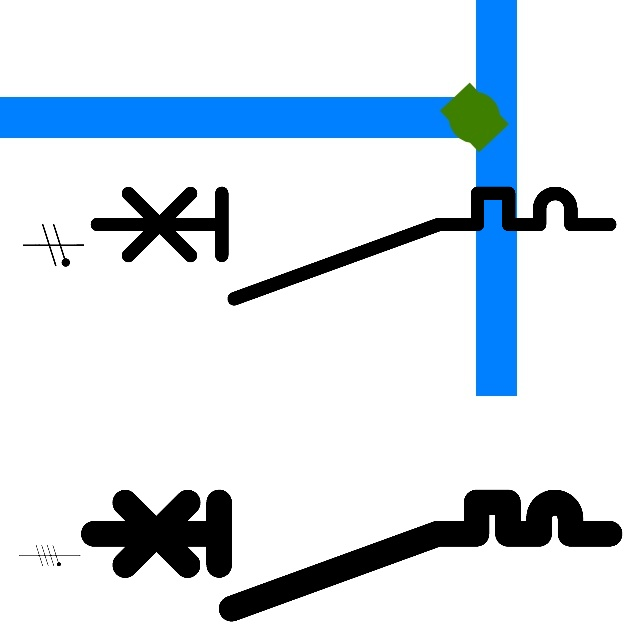interruptor_termomagnetico: (80, 489, 622, 621), (84, 180, 623, 312)
